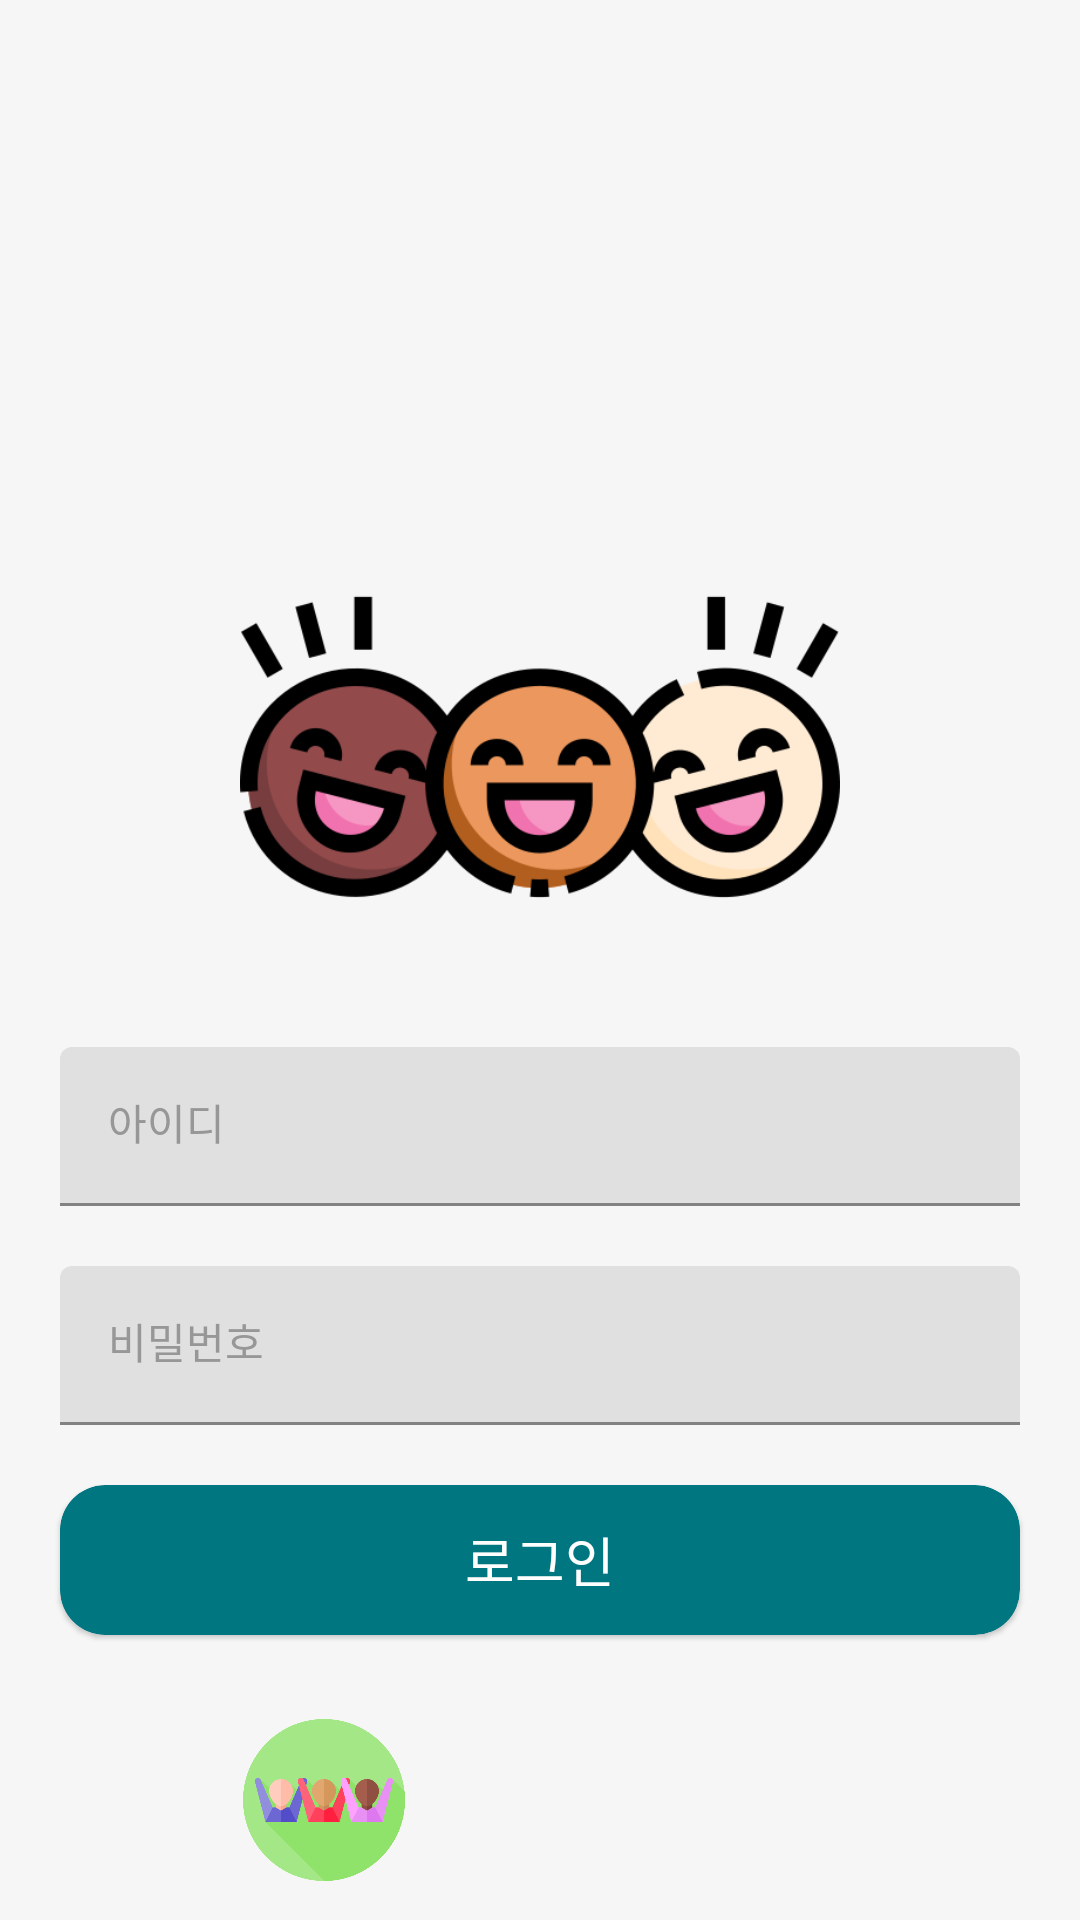

Locate icon controls on the screen. Image size 1080 x 1920, boxes as (x1, y1, x2, y2).
diversity: (243, 1719, 405, 1881)
